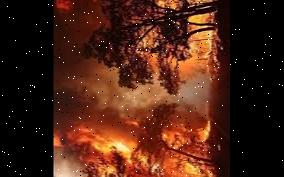fire: (59, 113, 220, 177)
